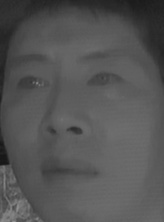eye: (84, 67, 124, 92), (13, 71, 52, 94)
mouth: (39, 151, 103, 189)
